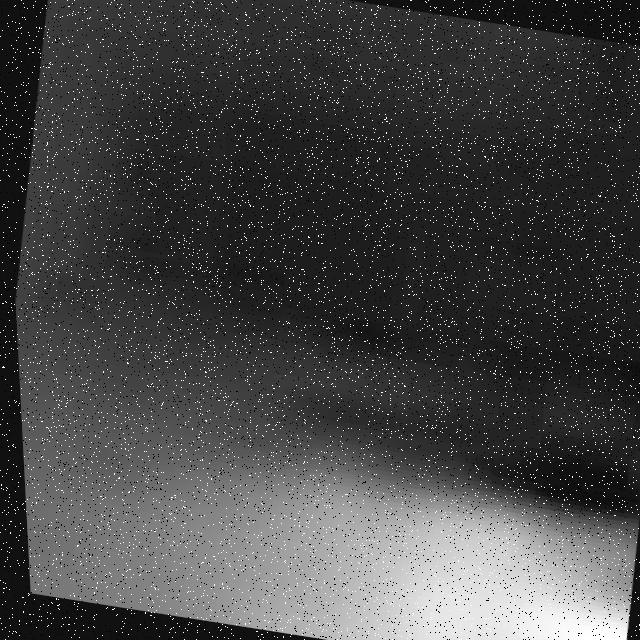person: (71, 424, 640, 640)
